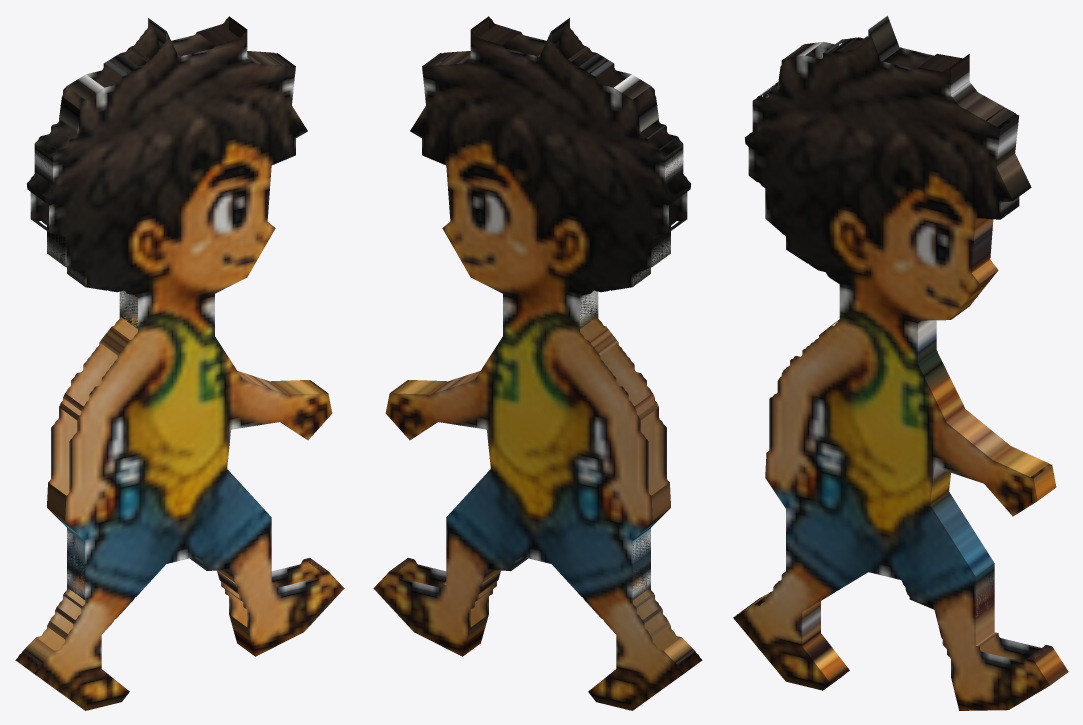
File: walk_00.fbx
3 views of the same model, side by side, from view 1: azimuth 30°, elevation 25°; view 2: azimuth 150°, elevation 25°; view 3: azimuth 330°, elevation 25° (orthographic).
Parts seen in each view (by area): view 1: geometry_0; view 2: geometry_0; view 3: geometry_0.
Boxes of the visible parts, <box> form: geometry_0: <box>15,16,344,710</box>; geometry_0: <box>373,16,702,710</box>; geometry_0: <box>733,15,1068,710</box>.
Size of the model in its own units: 0.77 by 1.56 by 0.0785.
Materials: 1 (1 with a texture image).
